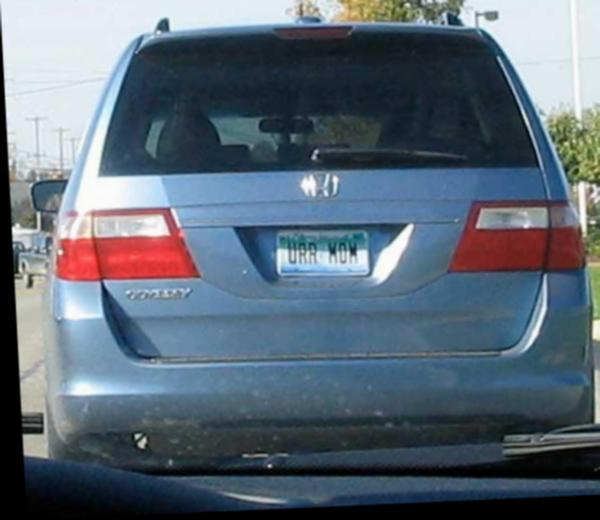License_Plate: (269, 217, 381, 285)
